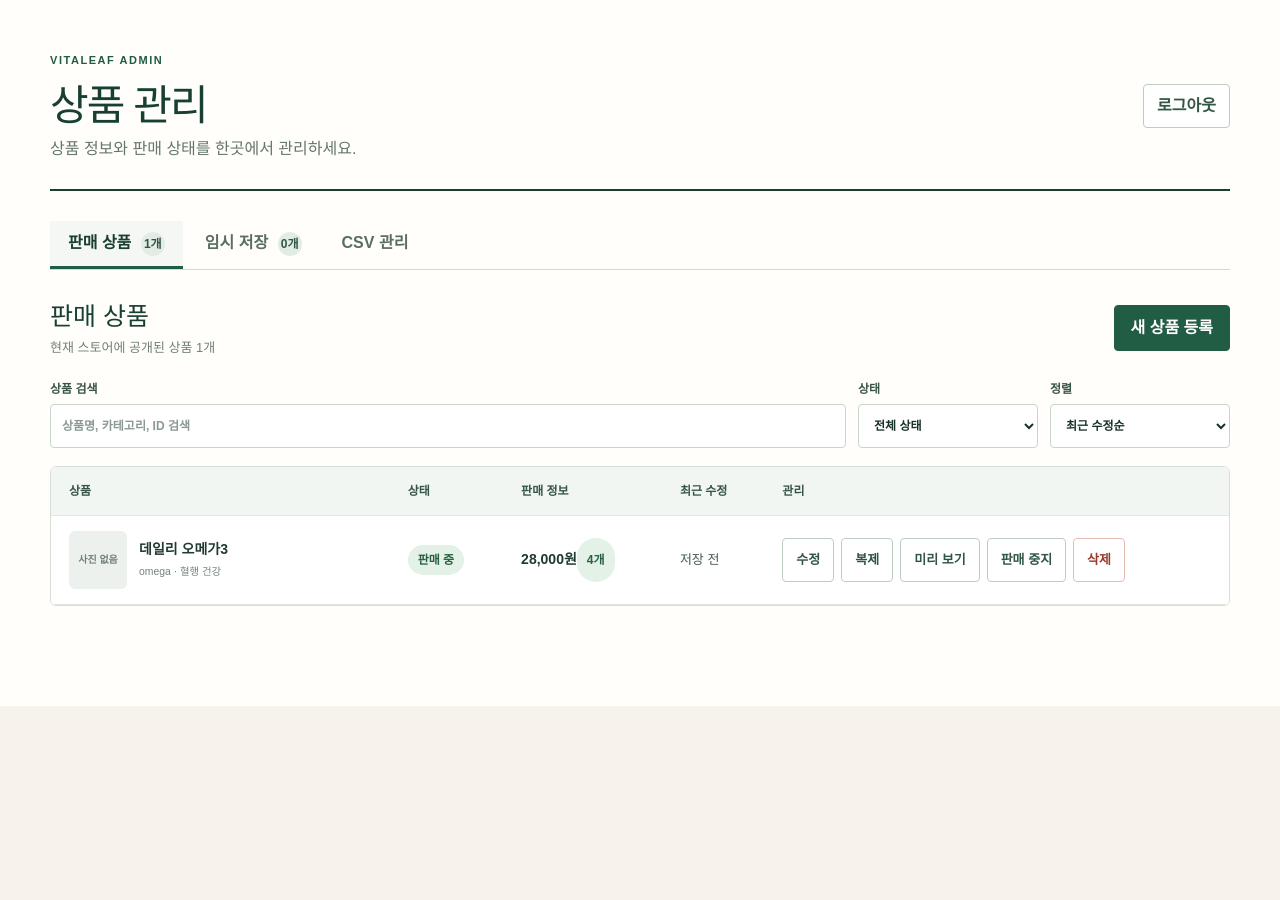
Test case: closes the synchronously opened preview when flush fails
Click the button with aria-label "데일리 오메가3 수정" at (808, 560), box [782,538,834,582]
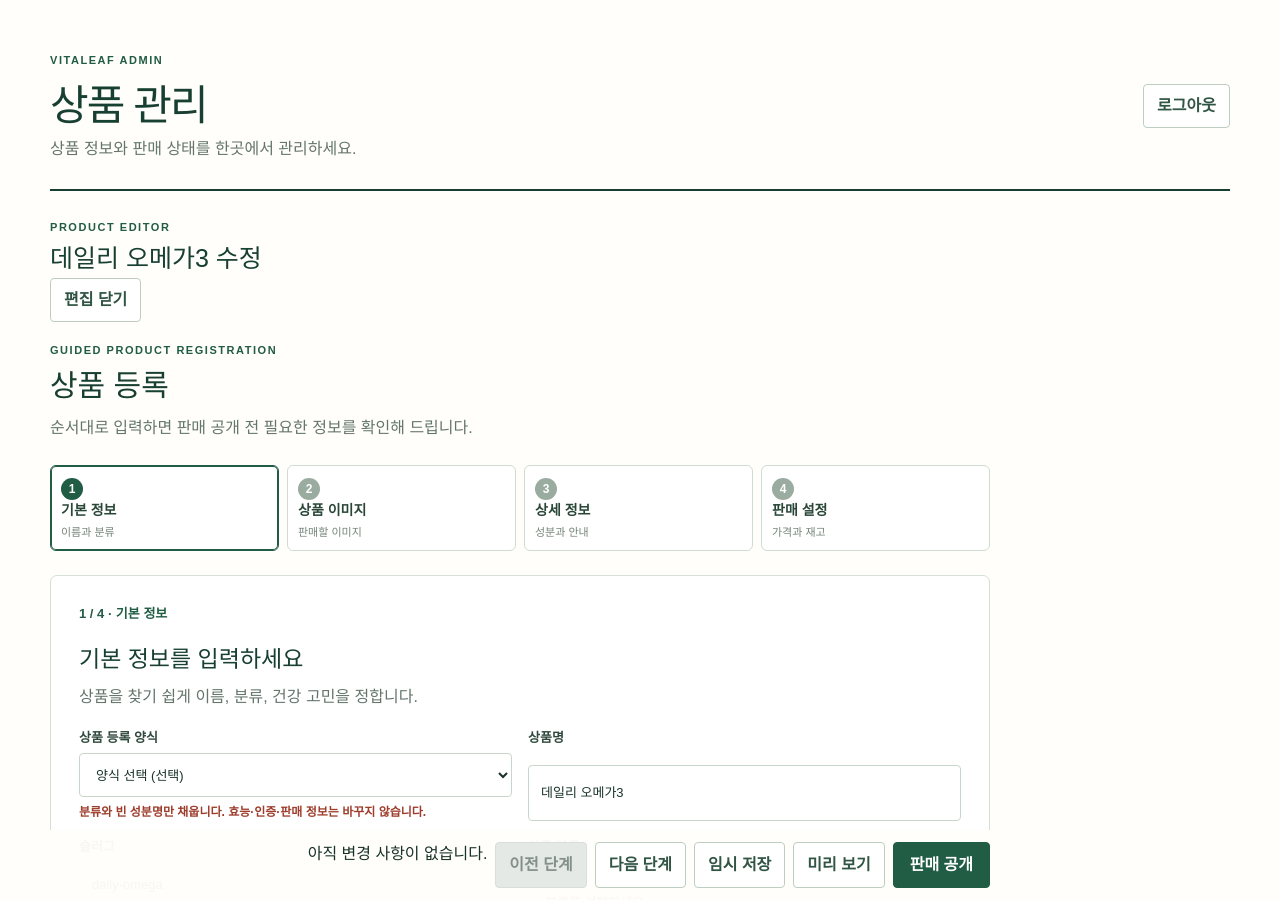
Click the button "미리 보기" at (839, 865), box [793,842,885,888]
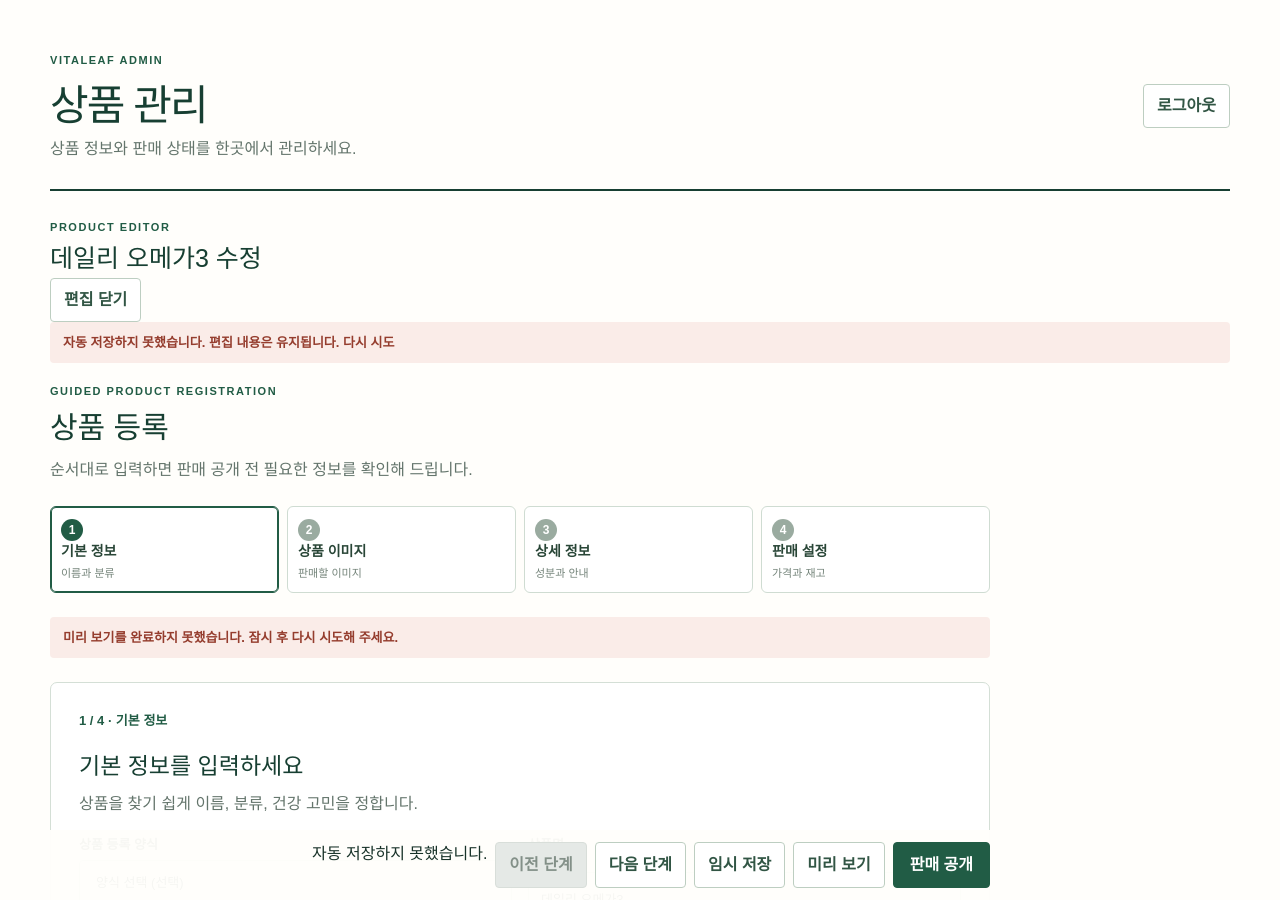
Check: the text "미리 보기를 완료하지 못했습니다. 잠시 후 다시 시도해 주세요." is shown, box [50,617,990,658]
